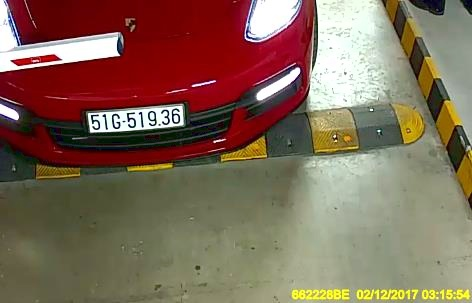plate: (86, 104, 183, 131)
